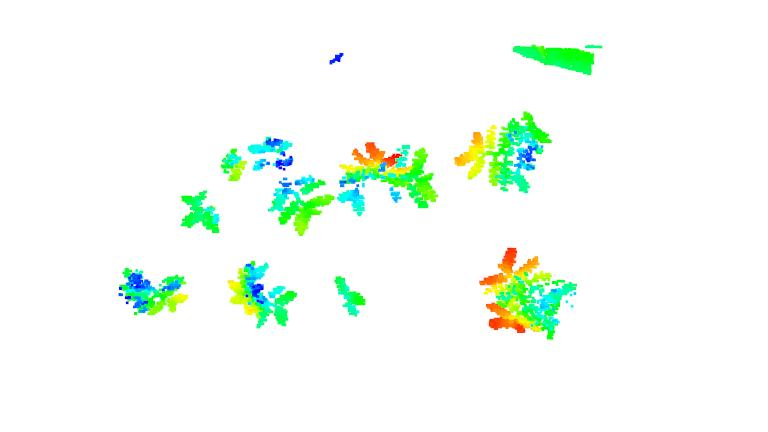chickpea: (244, 135, 336, 238), (480, 247, 582, 338), (337, 138, 440, 221), (453, 110, 551, 197), (179, 148, 244, 233), (226, 259, 298, 330), (117, 262, 192, 319), (332, 271, 368, 318)
